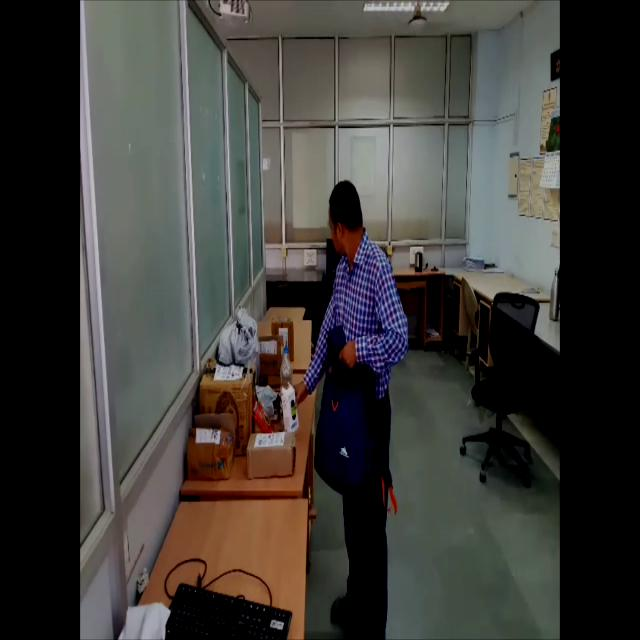shoplifting: (288, 162, 412, 640)
